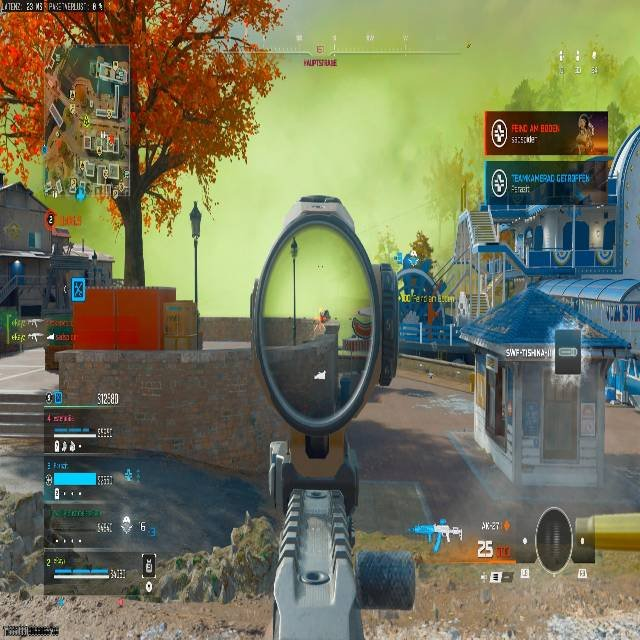player: (317, 309, 329, 333)
